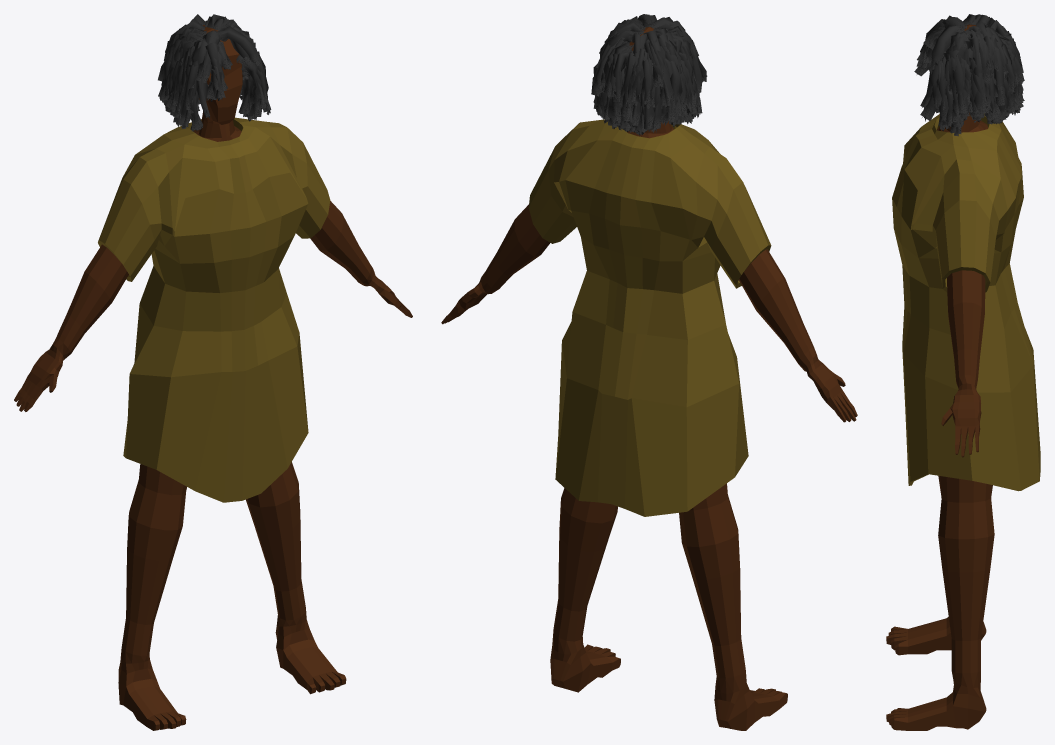
Rendered from Numidian_demo.v.fbx.
3 views of the same model, side by side, from view 1: azimuth 30°, elevation 25°; view 2: azimuth 150°, elevation 25°; view 3: azimuth 270°, elevation 25° (orthographic). The views are drawn at different scales.
Visible parts, largest first — view 1: Cylinder; view 2: Cylinder; view 3: Cylinder.
Boxes of the visible parts, x1,y1,x2,y2 form: Cylinder: (14,14,412,730); Cylinder: (441,14,857,730); Cylinder: (886,14,1040,730).
Bounding box in the file's own units: 181 × 292 × 61.26.
